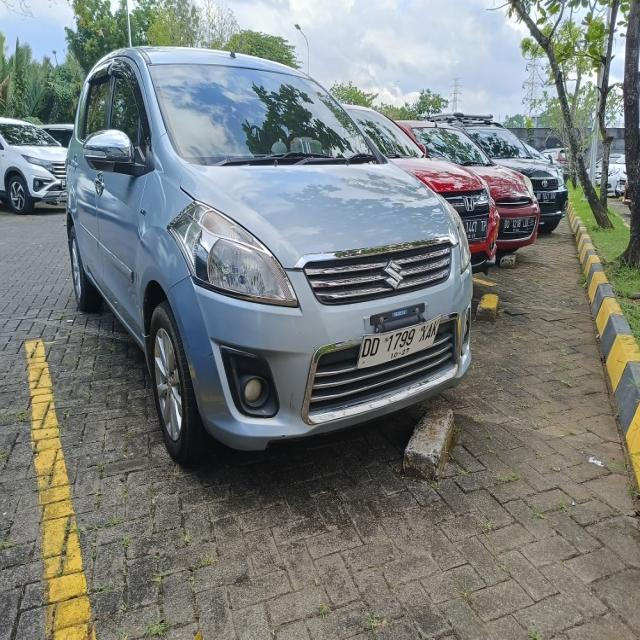plates: (360, 312, 438, 372)
